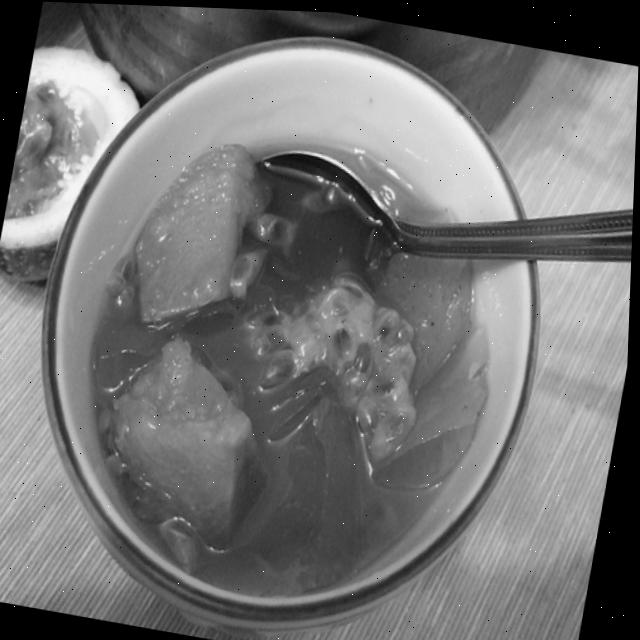蛋糕甜品: (16, 10, 586, 640)
